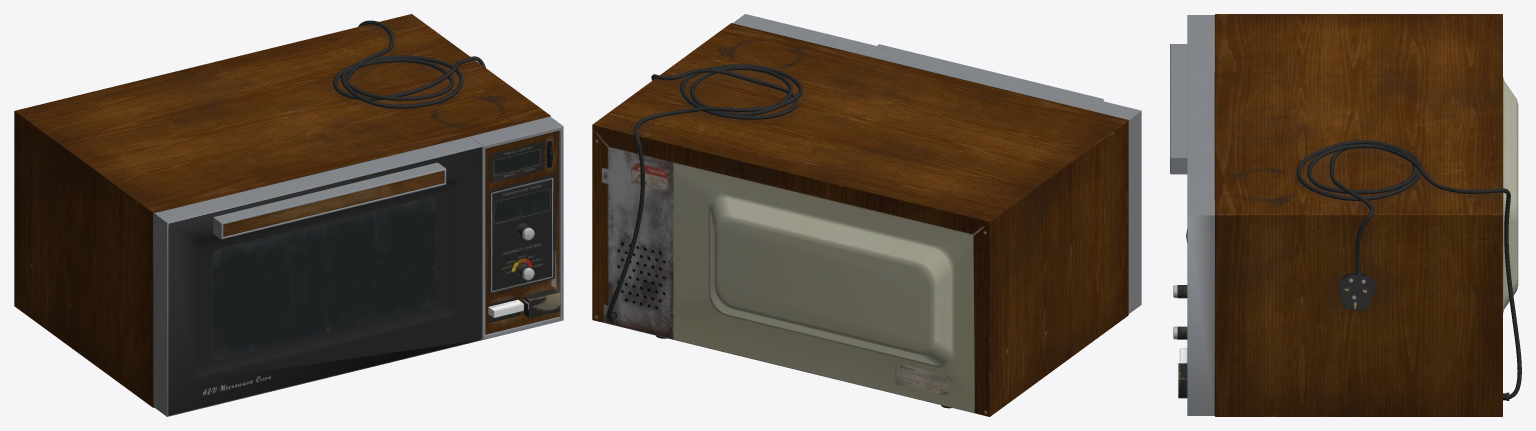
Rendered from vintage_microwave.glb.
3 views of the same model, side by side, from view 1: azimuth 30°, elevation 25°; view 2: azimuth 150°, elevation 25°; view 3: azimuth 270°, elevation 25° (orthographic). The views are drawn at different scales.
Visible parts, largest first — view 1: vintage_microwave; view 2: vintage_microwave; view 3: vintage_microwave.
Boxes of the visible parts, x1,y1,x2,y2 form: vintage_microwave: (14, 14, 563, 416); vintage_microwave: (592, 14, 1141, 416); vintage_microwave: (1170, 14, 1521, 416).
Size of the model in its own units: 1.07 by 0.5258 by 0.7456.
Materials: 2 (2 with a texture image).
